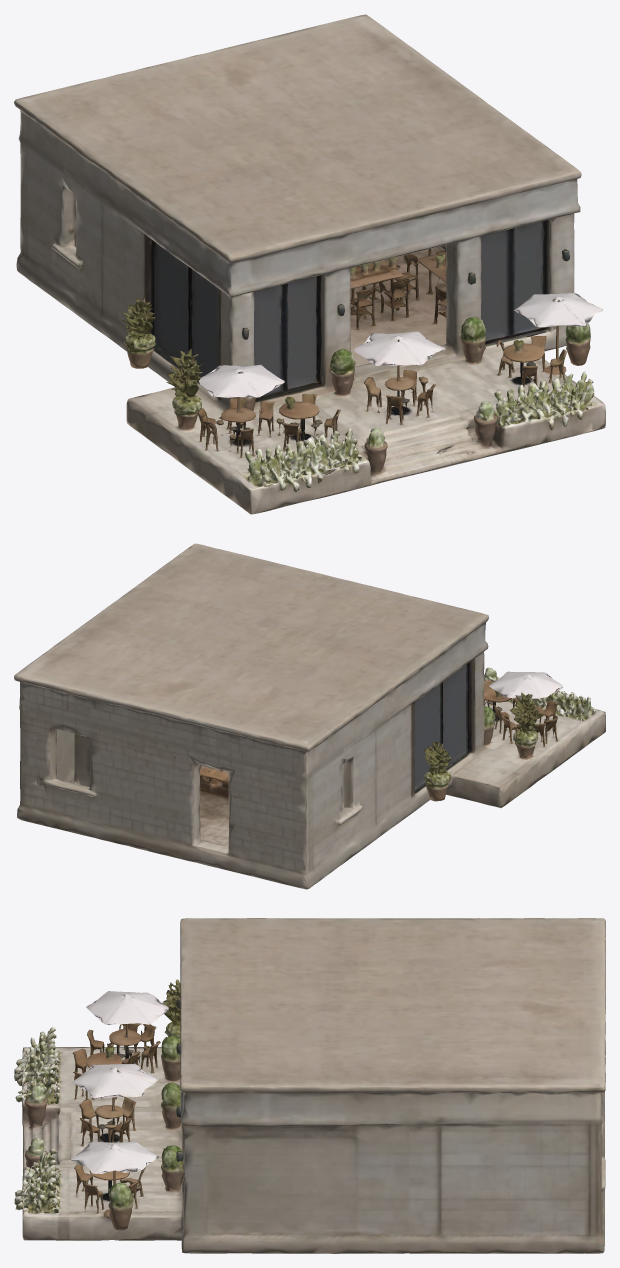
The model's file is coast.glb.
The picture shows the model from 3 angles, top to bottom: view 1: azimuth 30°, elevation 25°; view 2: azimuth 150°, elevation 25°; view 3: azimuth 270°, elevation 25°; orthographic projection. The views are drawn at different scales.
Visible parts, largest first — view 1: world; view 2: world; view 3: world.
Part boxes in pixels (x1,y1,x2,y2): world: (14,14,605,514); world: (14,543,605,889); world: (14,918,605,1253).
Bounding box in the file's own units: 0.7944 × 0.3387 × 0.9983.
Materials: 1 (1 with a texture image).
